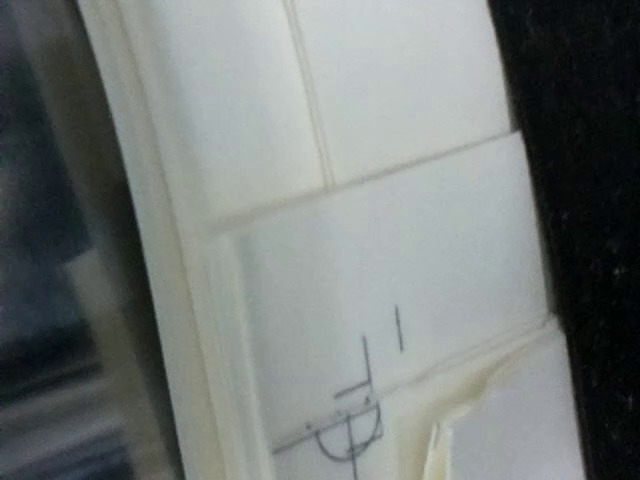misaligned: (262, 333, 389, 468)
